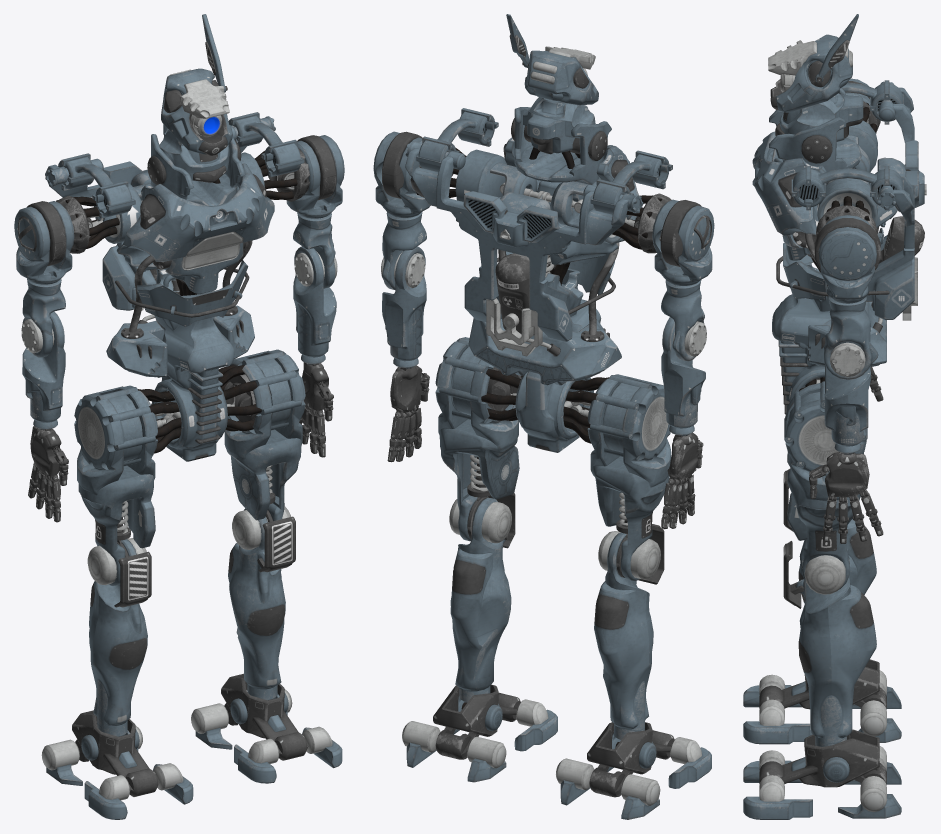
Rendered from nexus_industrial.glb.
3 views of the same model, side by side, from view 1: azimuth 30°, elevation 25°; view 2: azimuth 150°, elevation 25°; view 3: azimuth 270°, elevation 25° (orthographic). The views are drawn at different scales.
Visible parts, largest first — view 1: Solid 128_low.001, Solid 117_low.001, Solid 120_low.001, Solid 120_low.002, Solid 107_low.001, Solid 102_low.001, Solid 118_low.001, Solid 100_low.001, Solid 87_low.001, Solid 81_low.001, Solid 101_low.001, Solid 106_low.001 (+23 smaller); view 2: Solid 128_low.001, Solid 90_low.001, Solid 120_low.001, Solid 120_low.002, Solid 102_low.001, Solid 118_low.001, Solid 89_low.001, Solid 106_low.001, Solid 100_low.001, Solid 107_low.001, Solid 81_low.001, Solid 73_low.001 (+24 smaller); view 3: Solid 128_low.001, Solid 120_low.002, Solid 102_low.001, Solid 90_low.001, Solid 87_low.001, Solid 117_low.001, Solid 107_low.001, Solid 100_low.001, Solid 101_low.001, Solid 89_low.001, Solid 81_low.001, Solid 91_low.001 (+21 smaller).
Part boxes in pixels (x1,y1,x2,y2): Solid 128_low.001: (89,508,285,736); Solid 117_low.001: (116,163,274,293); Solid 120_low.001: (74,385,157,585); Solid 120_low.002: (224,349,305,520); Solid 107_low.001: (151,269,234,461); Solid 102_low.001: (72,673,308,796); Solid 118_low.001: (22,246,336,422); Solid 100_low.001: (14,135,344,284); Solid 87_low.001: (84,726,342,819); Solid 81_low.001: (58,112,304,218); Solid 101_low.001: (161,68,232,155); Solid 106_low.001: (106,305,254,377); Solid 128_low.001: (450,497,653,749); Solid 90_low.001: (405,140,643,341); Solid 120_low.001: (587,374,671,580); Solid 120_low.002: (435,337,519,541); Solid 102_low.001: (433,684,674,797); Solid 118_low.001: (382,246,705,428); Solid 89_low.001: (402,721,660,819); Solid 106_low.001: (468,318,621,385); Solid 100_low.001: (373,131,714,285); Solid 107_low.001: (515,268,601,452); Solid 81_low.001: (416,108,672,216); Solid 73_low.001: (382,212,704,361); Solid 128_low.001: (796,519,876,746); Solid 120_low.002: (784,381,867,589); Solid 102_low.001: (759,659,886,787); Solid 90_low.001: (866,81,926,319); Solid 87_low.001: (743,674,812,819); Solid 117_low.001: (752,131,897,260); Solid 107_low.001: (772,262,830,414); Solid 100_low.001: (818,78,876,303); Solid 101_low.001: (768,34,852,112); Solid 89_low.001: (838,670,901,818); Solid 81_low.001: (791,80,903,210); Solid 91_low.001: (769,88,861,184).
Bounding box in the file's own units: 2.69 × 5.91 × 1.29.
4 materials, 4 textured.
